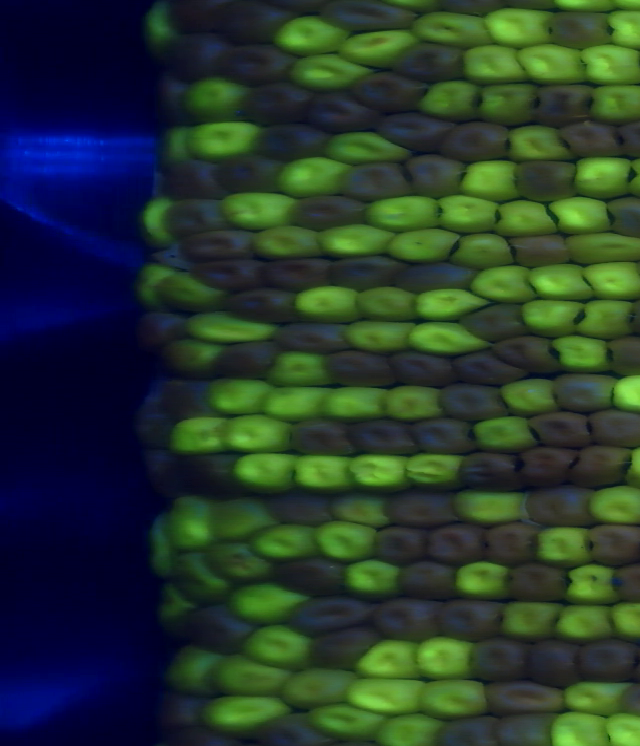fluorescent: (198, 693, 298, 739), (451, 154, 528, 208), (210, 648, 291, 699), (333, 26, 423, 71), (418, 6, 502, 54), (419, 671, 493, 724), (544, 332, 616, 385), (274, 155, 356, 201), (480, 6, 561, 52), (272, 14, 353, 60), (277, 665, 355, 712), (453, 491, 542, 532), (184, 122, 282, 159), (365, 193, 450, 235), (163, 411, 237, 459), (283, 51, 374, 90), (301, 700, 392, 739), (217, 414, 299, 457), (184, 312, 274, 351), (470, 264, 546, 310), (160, 271, 232, 319), (230, 580, 314, 621), (524, 263, 604, 306), (566, 155, 638, 202), (575, 290, 640, 342), (253, 519, 324, 566), (493, 200, 567, 245), (295, 283, 372, 326), (250, 226, 331, 266), (536, 524, 603, 572), (234, 449, 303, 495), (221, 192, 300, 232), (179, 76, 249, 121), (454, 38, 524, 83), (416, 283, 491, 325), (203, 377, 278, 419), (137, 513, 187, 576), (323, 132, 412, 167), (435, 192, 502, 238), (472, 415, 545, 457), (244, 625, 315, 668), (574, 44, 640, 90), (478, 82, 543, 128), (268, 348, 335, 392), (344, 554, 406, 601), (283, 451, 354, 492), (126, 1, 189, 47), (414, 635, 483, 677), (403, 447, 468, 491), (164, 649, 229, 693), (354, 282, 429, 320), (353, 643, 424, 683), (555, 601, 621, 644), (405, 320, 486, 355), (314, 222, 390, 259), (453, 559, 516, 603), (546, 196, 617, 235), (517, 43, 584, 84), (518, 295, 579, 340), (451, 231, 516, 273), (505, 127, 571, 168), (259, 382, 336, 417), (384, 227, 463, 261), (318, 516, 379, 560), (209, 496, 276, 536), (582, 261, 640, 307), (349, 677, 427, 711), (347, 455, 413, 495), (331, 490, 398, 529), (419, 79, 481, 121), (174, 559, 234, 602), (327, 382, 391, 422), (165, 494, 216, 544), (207, 540, 270, 580), (501, 603, 564, 643), (559, 562, 622, 601), (560, 683, 636, 715), (347, 319, 416, 354), (586, 82, 640, 124), (152, 569, 190, 628), (377, 718, 455, 746), (132, 265, 179, 311), (548, 713, 613, 746), (165, 334, 217, 375), (587, 485, 640, 525), (134, 196, 178, 244), (563, 232, 640, 259), (383, 388, 441, 422), (504, 382, 555, 418), (608, 369, 640, 420), (163, 122, 199, 166), (602, 8, 640, 48), (601, 710, 640, 746), (610, 598, 640, 640)
nonfluorescent: (209, 148, 291, 202), (213, 33, 299, 83), (480, 675, 576, 719), (130, 439, 198, 499), (538, 81, 611, 135), (287, 189, 374, 234), (185, 604, 261, 654), (350, 69, 434, 114), (154, 194, 236, 240), (258, 123, 343, 167), (461, 632, 534, 683), (502, 558, 581, 605), (320, 252, 404, 296), (306, 625, 383, 673), (267, 553, 359, 593), (404, 150, 474, 202), (436, 120, 522, 162), (505, 155, 580, 202), (263, 251, 346, 293), (377, 106, 459, 148), (421, 523, 493, 570), (461, 298, 534, 344), (325, 347, 398, 393), (228, 285, 307, 327), (550, 369, 625, 413), (489, 339, 571, 379), (239, 80, 315, 123), (566, 445, 635, 492), (345, 413, 417, 458), (386, 489, 458, 534), (395, 258, 482, 295), (302, 89, 382, 129), (453, 352, 539, 389), (155, 380, 234, 420), (320, 1, 425, 31), (220, 1, 300, 40), (286, 590, 366, 629), (385, 348, 455, 392), (162, 29, 221, 81), (454, 451, 527, 493), (532, 409, 598, 455), (437, 596, 503, 642), (158, 686, 213, 741), (268, 318, 354, 353), (525, 489, 595, 532), (574, 635, 638, 682), (544, 12, 622, 50), (216, 340, 290, 380), (283, 416, 355, 457), (338, 164, 413, 203), (255, 714, 346, 746), (515, 445, 578, 491), (406, 415, 473, 458), (530, 636, 583, 690), (490, 709, 567, 746), (564, 120, 630, 163), (162, 156, 229, 198), (375, 600, 442, 642), (187, 455, 254, 496), (484, 520, 544, 565), (398, 559, 463, 600), (184, 225, 262, 259), (388, 46, 468, 78), (589, 524, 640, 574), (583, 408, 640, 452), (506, 236, 578, 268), (371, 524, 428, 562), (130, 399, 179, 443), (197, 256, 268, 286), (600, 189, 640, 241), (138, 310, 187, 352), (431, 721, 512, 746), (438, 381, 497, 415), (170, 1, 240, 28), (268, 493, 331, 522), (604, 333, 640, 378)
